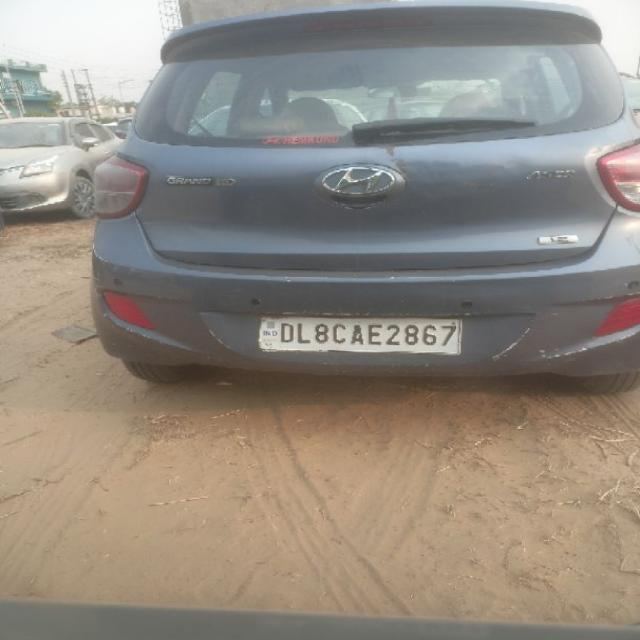license_plate: (255, 314, 463, 356)
